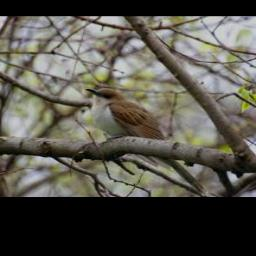Cuckoo: (84, 88, 210, 197)
